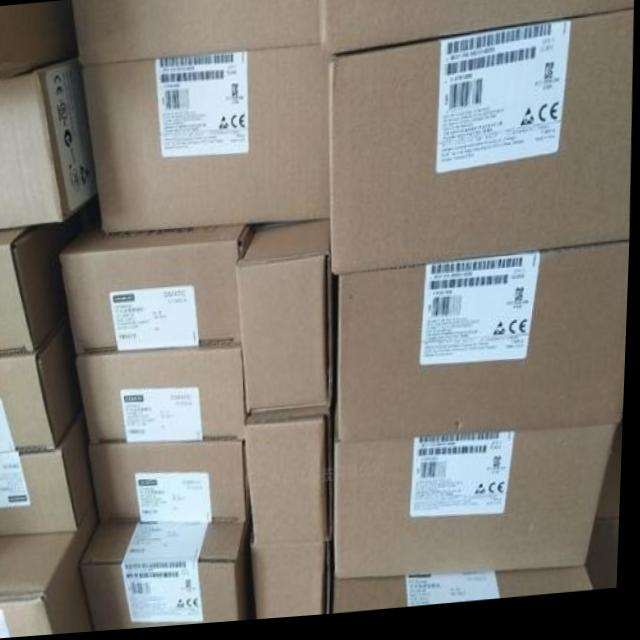box: (330, 21, 633, 283), (340, 249, 629, 450), (83, 53, 335, 234), (339, 431, 621, 583), (61, 222, 257, 354), (81, 522, 258, 633), (320, 0, 633, 61), (238, 224, 333, 418), (0, 54, 101, 229), (78, 342, 248, 445), (72, 0, 319, 68), (0, 503, 104, 639), (92, 442, 250, 524), (0, 407, 98, 534), (247, 414, 337, 550), (339, 573, 599, 617), (0, 324, 86, 454), (0, 223, 73, 356), (255, 548, 333, 623)
